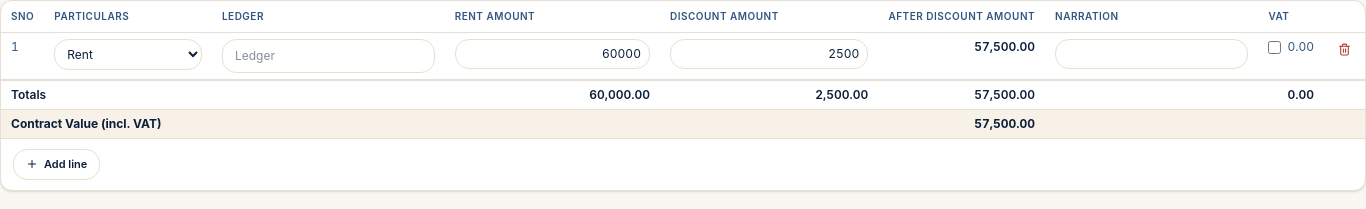
Test: LeaseLinesGrid › computes After Discount from amount minus discount, and never lets it be typed
The width and height of the screenshot is (1366, 209).
Expected: the cell with test id "lease-line-net-0" reads "57,500.00", [974,39,1035,54]
Step 1. Replace the text in the field with test id "lease-line-discount-0" with "500" → x=769, y=54, box [670,39,868,69]
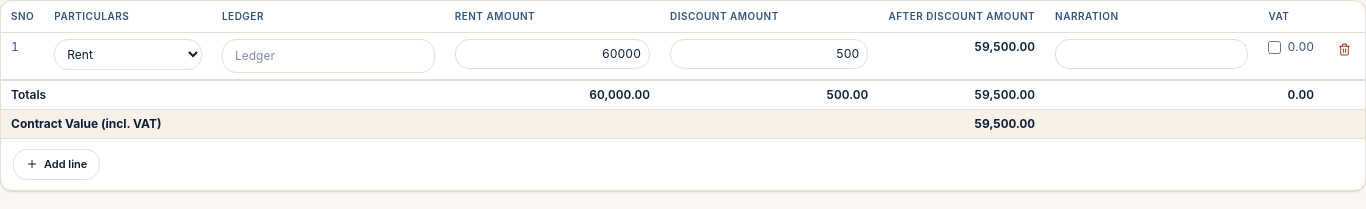
Now the cell with test id "lease-line-net-0" reads "59,500.00", box [974,39,1035,54]
